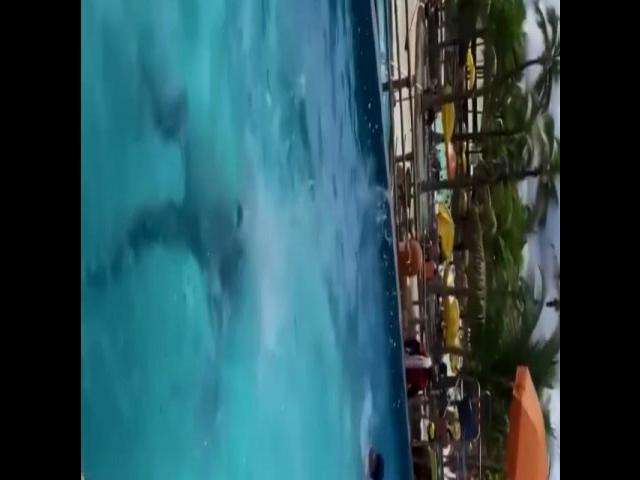drowning: (134, 95, 270, 367)
swimming: (335, 408, 387, 480)
